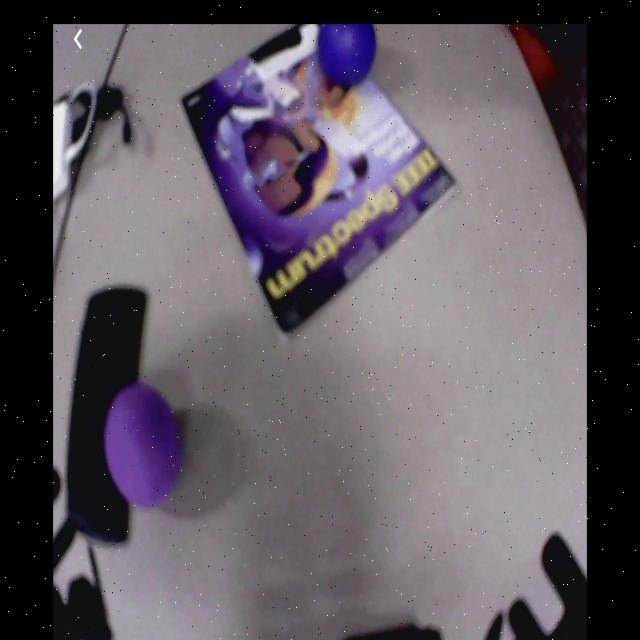ball: (106, 384, 182, 506), (318, 26, 377, 86)
